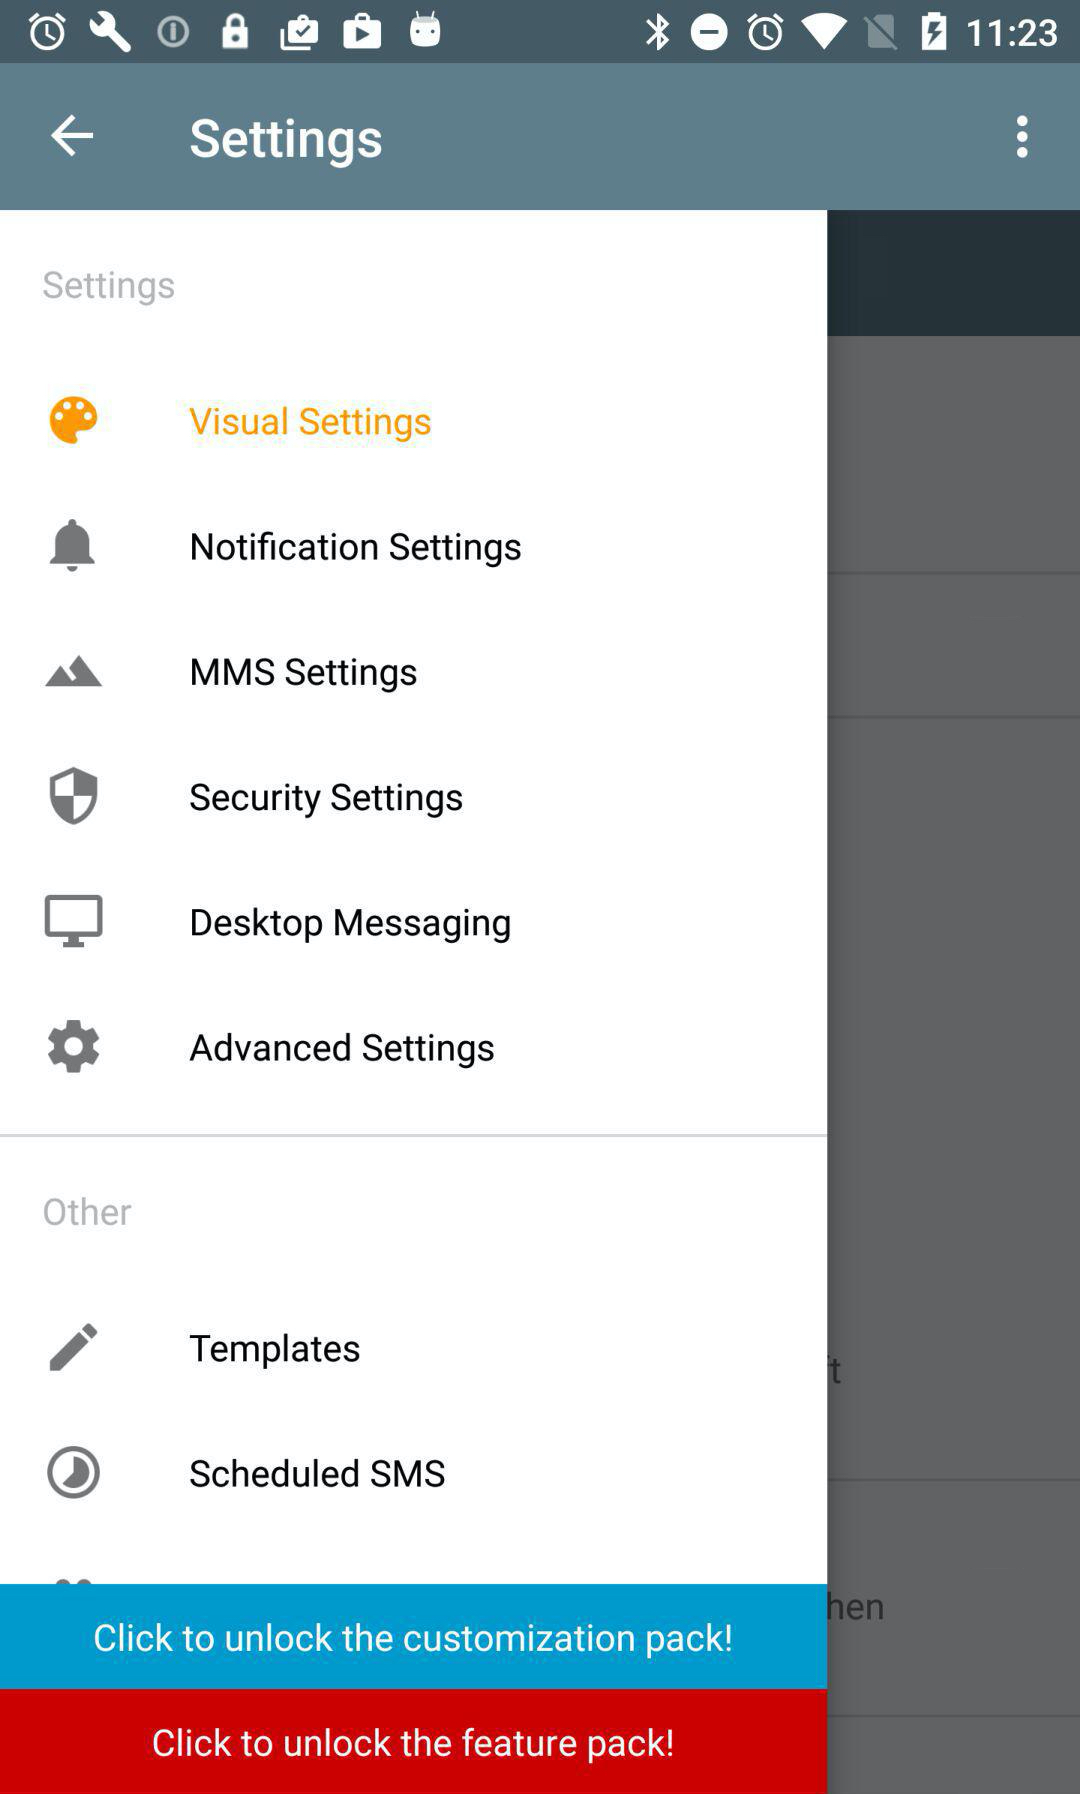Drawer: (1, 211, 829, 1794)
Icon: (47, 1019, 102, 1075), (49, 518, 97, 574), (50, 1322, 99, 1372), (50, 114, 96, 159), (1013, 114, 1030, 161)
Image: (45, 894, 105, 950), (46, 1445, 102, 1501), (50, 766, 100, 827), (50, 396, 99, 446), (45, 654, 104, 688)
Text: (191, 531, 523, 569), (191, 906, 512, 944), (188, 1032, 496, 1070), (190, 780, 464, 821), (190, 117, 384, 170), (190, 404, 432, 443), (191, 656, 419, 695), (190, 1457, 446, 1489), (190, 1331, 363, 1371), (44, 269, 176, 308), (44, 1196, 135, 1228)
TextButton: (1, 1584, 828, 1689), (1, 1689, 828, 1794)
Toolbar: (1, 65, 1080, 211)
UpperTaskBar: (1, 1, 1080, 64)
